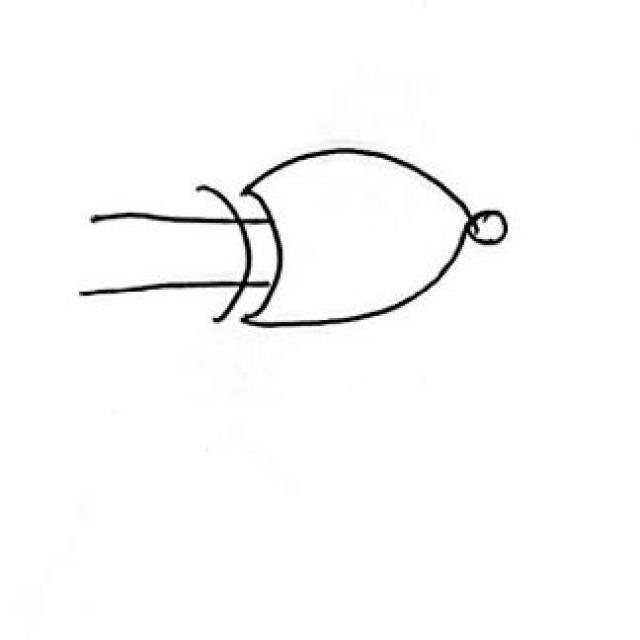XNOR: (170, 133, 528, 339)
